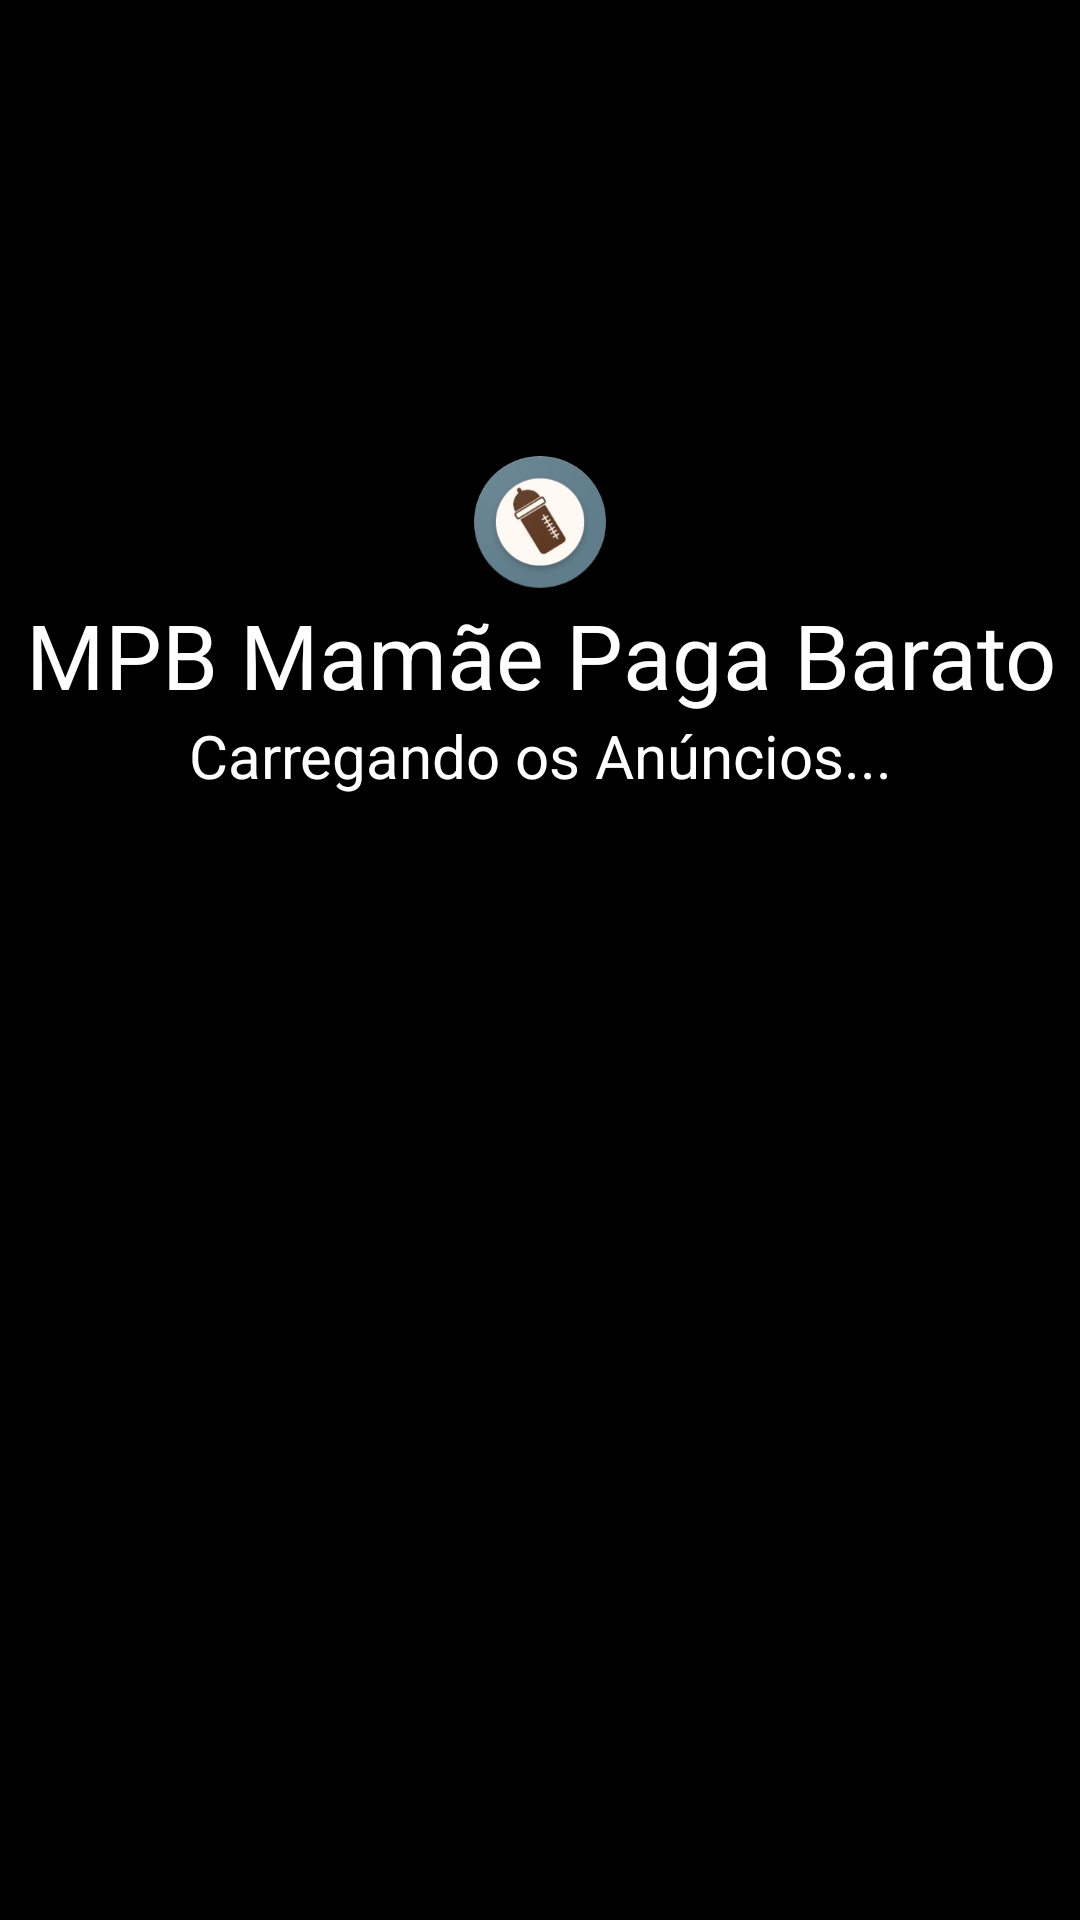

Named icons in this screenshot (1080w x 1920h) and their bounding boxes, (x1, y1, x2, y2):
mamadeira: (474, 456, 606, 588)
